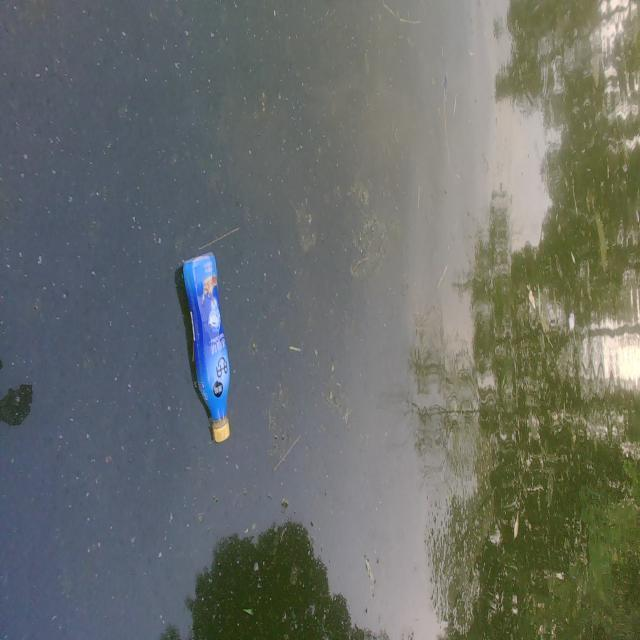bottle: (156, 202, 252, 460)
